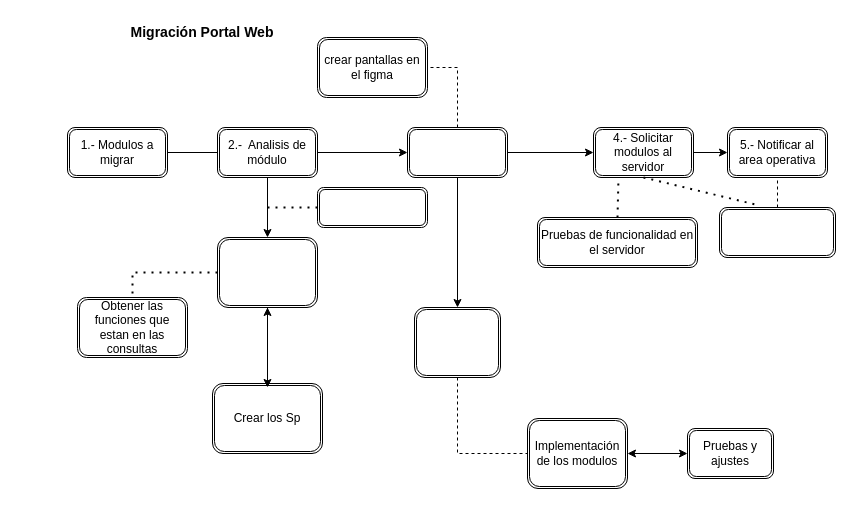
Image size: 853x506. Some labels were removed from this diagram. The box of each missing label's shape, as (x1, y1, x2, y2) in pixels:
3.- Desarrollo Frontend: (406, 126, 508, 178)
Alimentar Sprint por módulo: (316, 186, 428, 228)
Consumir los sp, construción del back: (414, 306, 500, 378)
Crear Matriz de prueba por módulo: (718, 206, 836, 258)
Obtener querys que se utilizan en el modulo: (216, 236, 318, 308)
